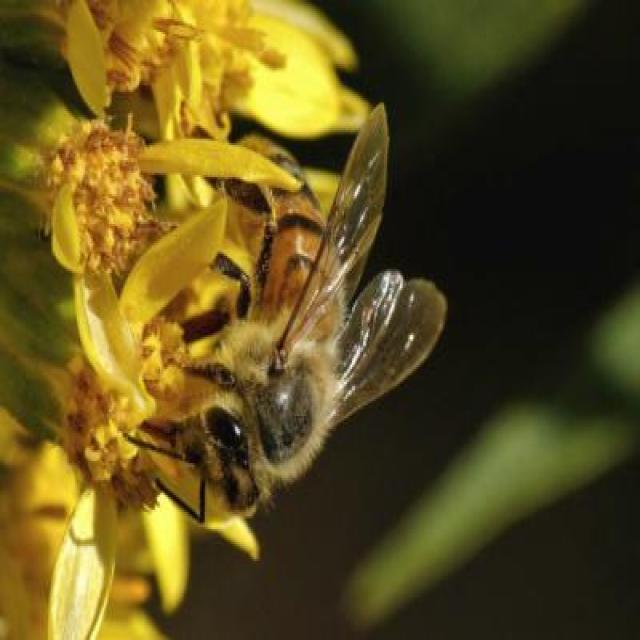antennae: (152, 472, 206, 523), (122, 431, 200, 464)
body: (166, 132, 350, 514)
insect: (124, 99, 450, 522)
legs: (185, 127, 284, 295), (201, 236, 251, 333), (158, 356, 254, 393)
mouthpart: (139, 413, 202, 476)
wings: (268, 102, 395, 387), (320, 284, 441, 435)
